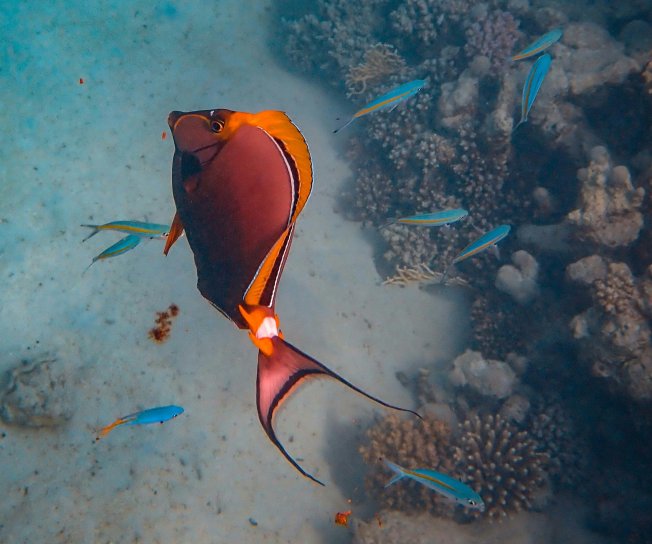fishRound: (155, 108, 426, 490)
fishSmall: (382, 458, 487, 513), (330, 76, 428, 133), (438, 223, 514, 287), (89, 401, 184, 441), (377, 204, 480, 235), (77, 217, 175, 245), (81, 237, 145, 277), (512, 71, 545, 132)
